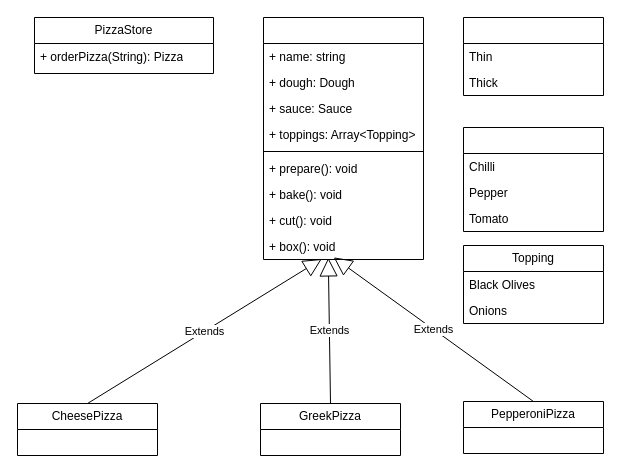
Some shapes in this 621 by 473 pixel diagram are drawn without their labels. Each missing label, with the box of its shape:
Dough: (462, 16, 604, 96)
Pizza: (262, 16, 424, 260)
Sauce: (462, 126, 604, 232)
